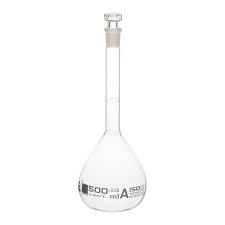Volumetric flask: (66, 6, 152, 213)
